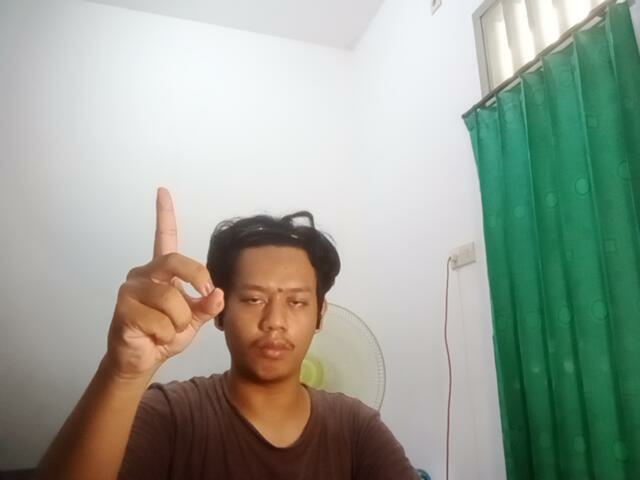D: (92, 182, 236, 374)
